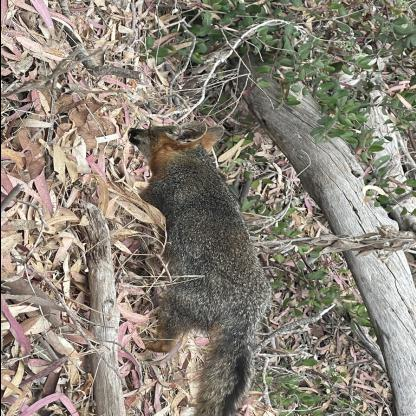zorro: (110, 118, 277, 415)
